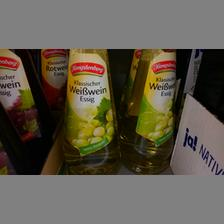Essig: (62, 46, 120, 174), (124, 47, 176, 173), (0, 48, 48, 164), (38, 48, 66, 106)
